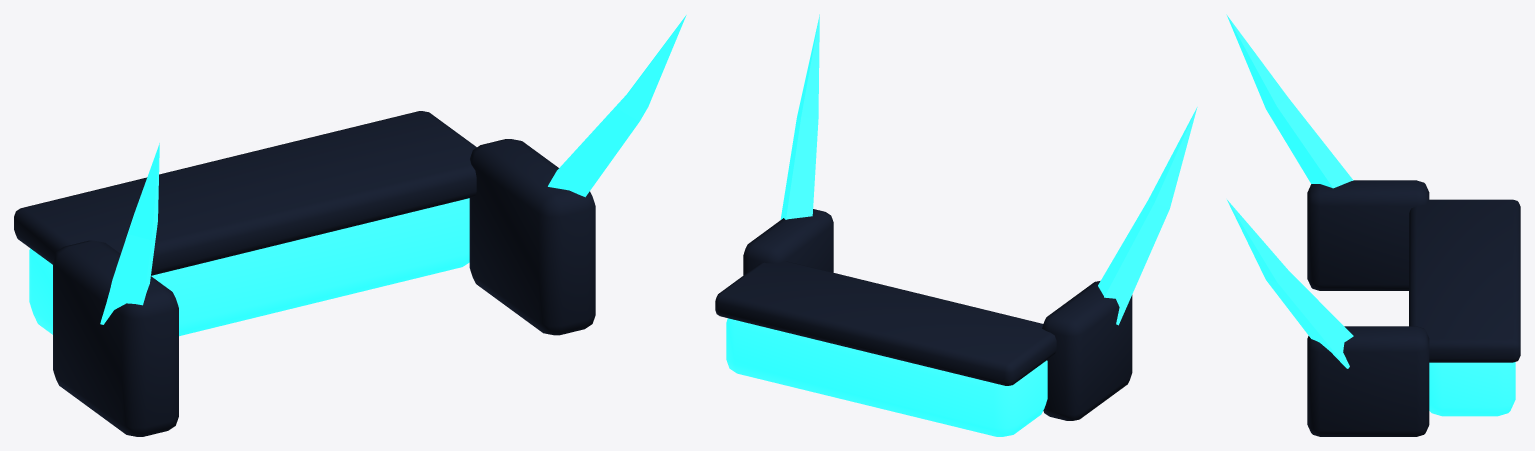
Rendered from headgear_visor.glb.
3 renders of one model, left to right at view 1: azimuth 30°, elevation 25°; view 2: azimuth 150°, elevation 25°; view 3: azimuth 270°, elevation 25°, orthographic. The views are drawn at different scales.
Visible parts, largest first — view 1: VisorBrow, VisorShield, EarPod_1, EarPod_-1, Fin_1, Fin_-1; view 2: VisorBrow, VisorShield, EarPod_-1, Fin_-1, EarPod_1, Fin_1; view 3: VisorBrow, EarPod_1, EarPod_-1, VisorShield, Fin_-1, Fin_1.
Boxes of the visible parts, x1,y1,x2,y2 form: VisorBrow: (14,111,476,275); VisorShield: (29,198,469,336); EarPod_1: (469,139,595,335); EarPod_-1: (53,240,178,436); Fin_1: (548,15,686,197); Fin_-1: (100,143,159,324); VisorBrow: (715,261,1056,385); VisorShield: (726,318,1047,436); EarPod_-1: (1042,281,1132,420); Fin_-1: (1098,107,1197,325); EarPod_1: (743,209,833,275); Fin_1: (780,14,819,219); VisorBrow: (1409,199,1520,362); EarPod_1: (1307,326,1429,436); EarPod_-1: (1307,180,1429,290); VisorShield: (1429,362,1515,416); Fin_-1: (1226,14,1353,188); Fin_1: (1227,200,1353,368).
Bounding box in the file's own units: 0.86 × 0.55 × 0.58.
